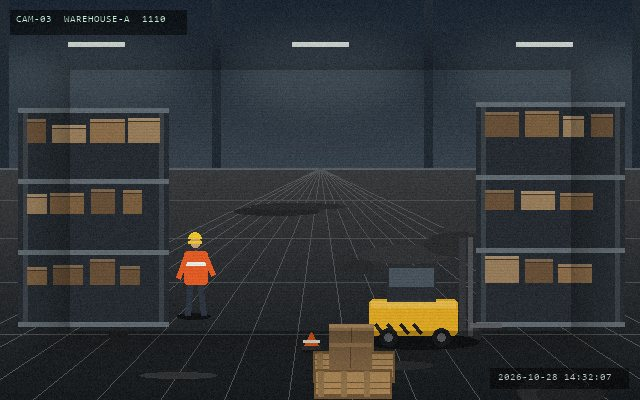cone: (301, 330, 321, 352)
forklift: (365, 235, 503, 349)
pallet: (311, 349, 396, 384), (312, 367, 393, 399)
person: (176, 230, 214, 318)
shelf: (476, 102, 624, 322), (18, 108, 168, 322)
